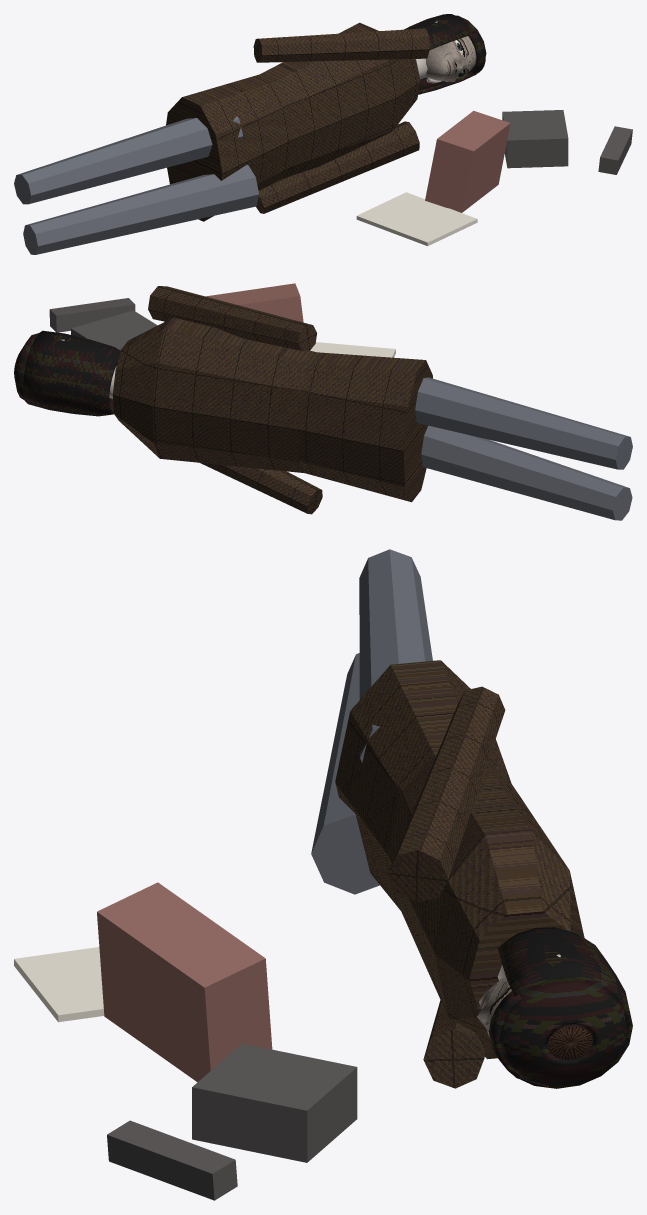
The model's file is char_iveta.glb.
3 renders of one model, top to bottom at view 1: azimuth 30°, elevation 25°; view 2: azimuth 150°, elevation 25°; view 3: azimuth 270°, elevation 25°, orthographic. The views are drawn at different scales.
Parts seen in each view (by area): view 1: CoatBody, LegR, LegL, IvetaHandbag, ArmL, ArmR, DamagedPhone, IvetaDoc, OrganicHeadMesh, HairBobCurtain, DetachedHandset, HairBobBangs; view 2: CoatBody, LegL, LegR, HairBobCurtain, ArmL, ArmR, IvetaHandbag, DamagedPhone, DetachedHandset, IvetaDoc, HairBobCrown; view 3: CoatBody, IvetaHandbag, DamagedPhone, ArmL, HairBobCrown, LegL, HairBobCurtain, DetachedHandset, LegR, IvetaDoc, ArmR, OrganicHeadMesh (+1 smaller).
Boxes of the visible parts, x1,y1,x2,y2 form: CoatBody: (166, 22, 420, 221); LegR: (23, 164, 259, 254); LegL: (14, 116, 242, 204); IvetaHandbag: (425, 110, 510, 212); ArmL: (253, 28, 429, 62); ArmR: (256, 121, 419, 213); DamagedPhone: (502, 110, 568, 168); IvetaDoc: (356, 192, 477, 246); OrganicHeadMesh: (426, 36, 476, 81); HairBobCurtain: (404, 14, 476, 94); DetachedHandset: (598, 126, 632, 174); HairBobBangs: (468, 30, 485, 76); CoatBody: (112, 317, 432, 502); LegL: (415, 377, 632, 469); LegR: (421, 425, 632, 520); HairBobCurtain: (23, 330, 120, 416); ArmL: (148, 286, 316, 351); ArmR: (200, 463, 322, 514); IvetaHandbag: (205, 283, 303, 322); DamagedPhone: (71, 310, 157, 350); DetachedHandset: (49, 298, 135, 332); IvetaDoc: (310, 342, 395, 357); HairBobCrown: (14, 333, 38, 400); CoatBody: (335, 660, 584, 1059); IvetaHandbag: (97, 882, 272, 1082); DamagedPhone: (192, 1043, 357, 1162); ArmL: (388, 686, 505, 902); HairBobCrown: (499, 977, 629, 1086); LegL: (359, 549, 432, 762); HairBobCurtain: (497, 927, 632, 1088); DetachedHandset: (107, 1120, 237, 1200); LegR: (311, 653, 379, 894); IvetaDoc: (14, 947, 104, 1022); ArmR: (423, 1000, 485, 1088); OrganicHeadMesh: (477, 977, 593, 1059).
Bounding box in the file's own units: 1.91 × 0.5566 × 0.9677.
Materials: 8 (3 with a texture image).
